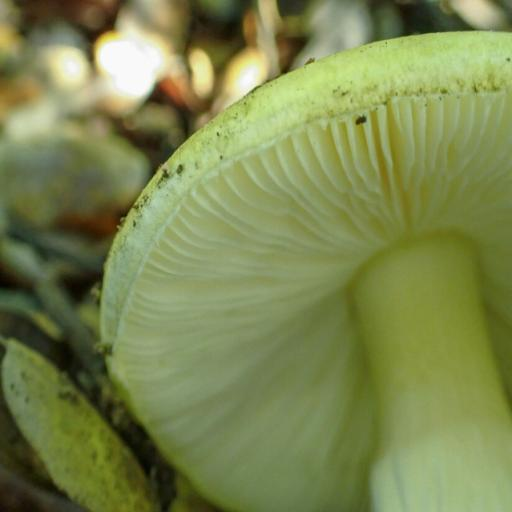mushroom: (104, 36, 511, 511)
